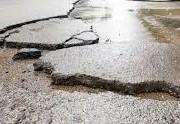crack: (10, 51, 180, 99), (0, 0, 89, 34), (0, 31, 101, 55)
